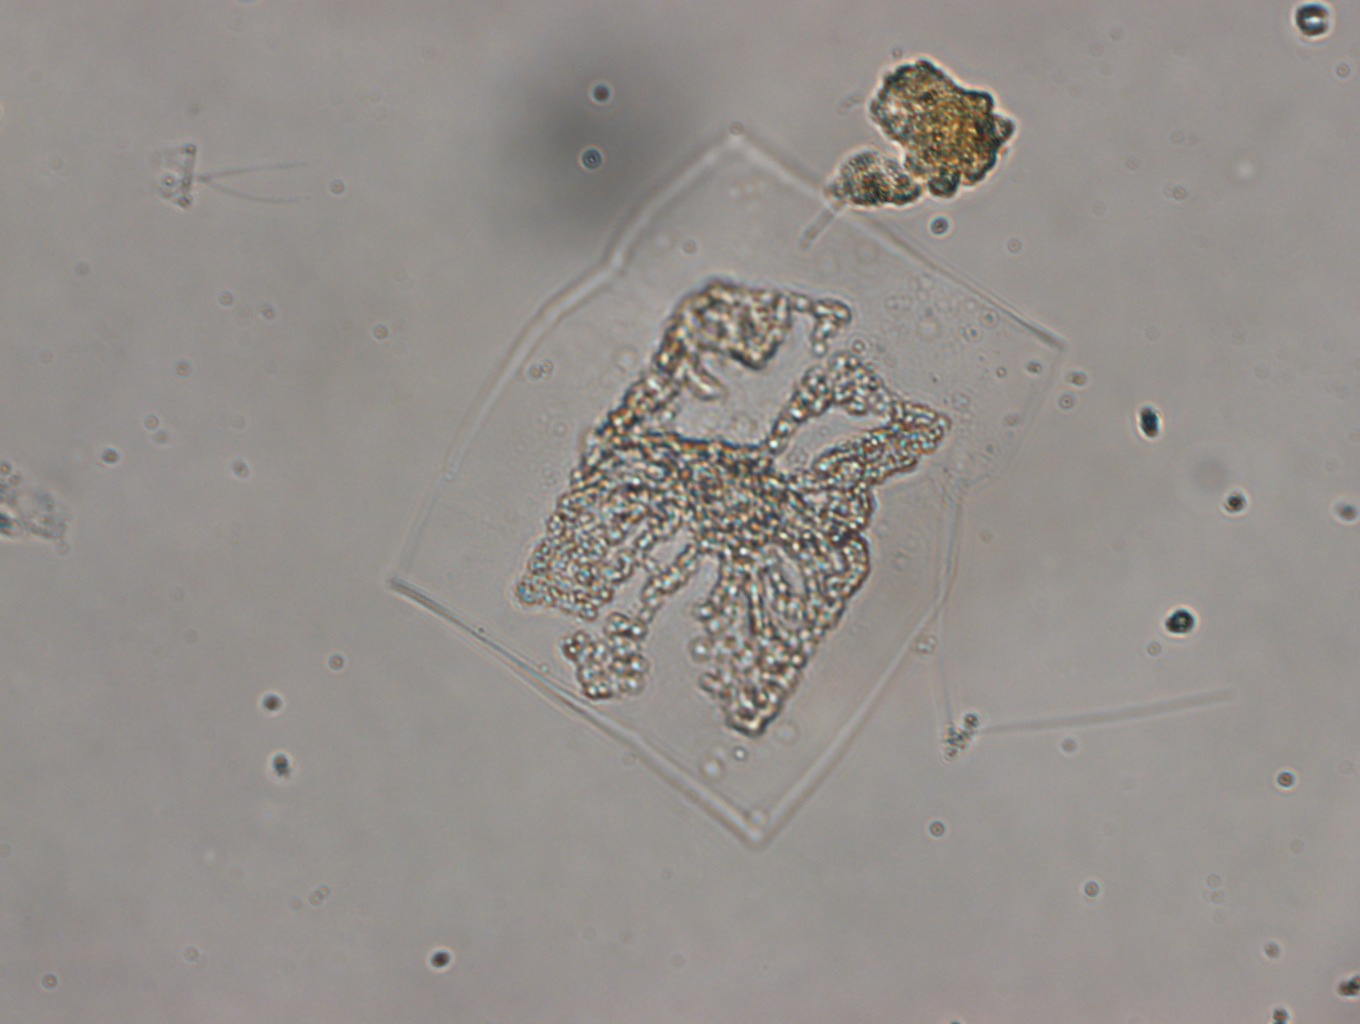helicotheca: (387, 120, 1068, 851)
